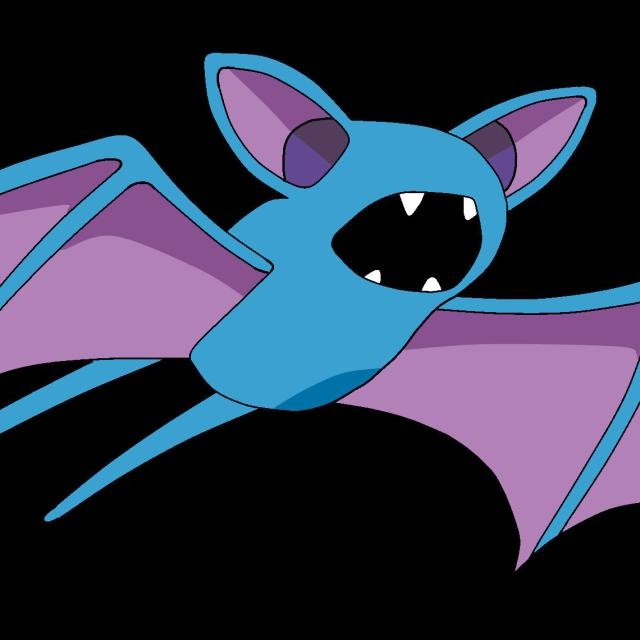Zubat: (29, 61, 601, 440)
